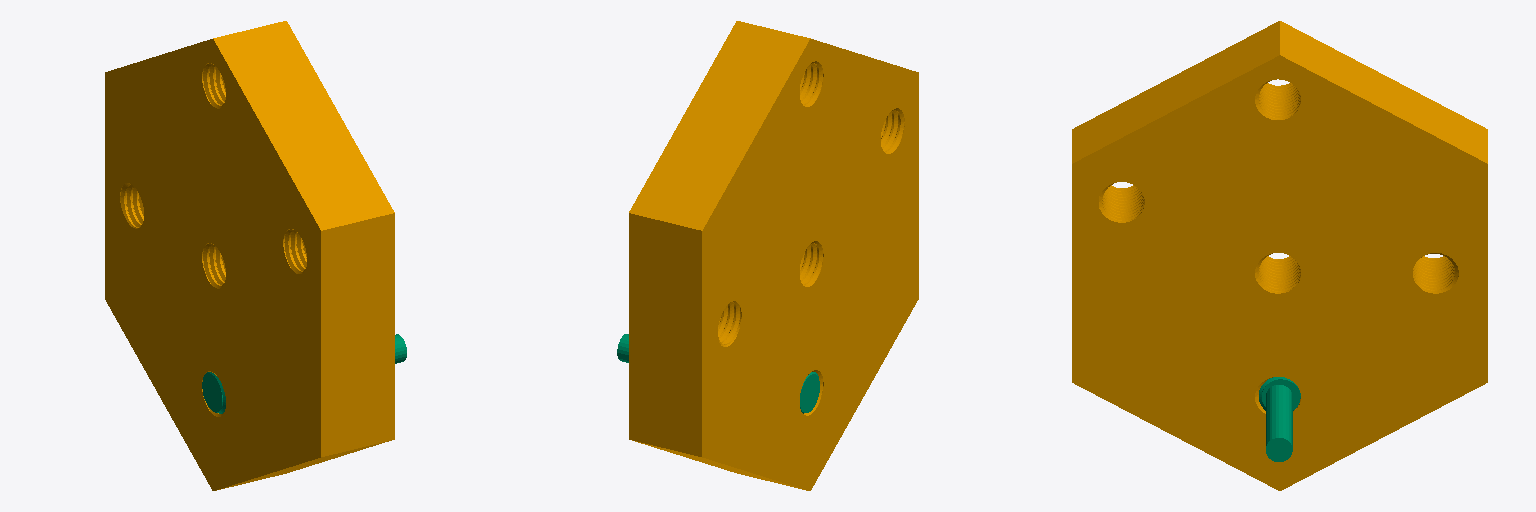
URDF robot description (Peg_insertion_3):
<?xml version="1.0"?>
<!--
  Peg insertion (Hole 3): five-hole plate + one threaded peg in hole 3 on a
  continuous revolute and a prismatic joint along the hole axis.
  Turns the plate normal to +X like the other mechanisms.
  PrismaticJoint = 0 seats the peg (its end flush with the plate back).
-->
<robot name="Peg_insertion_3">
  <link name="World">
    <inertial><origin xyz="0.0075 0 0" rpy="0 0 0" /><mass value="0.1008" /><inertia ixx="0.000114125" ixy="0" ixz="0" iyy="6.7105e-05" iyz="0" izz="5.08014e-05" /></inertial>
    <visual>
      <origin xyz="0 0 0" rpy="0 1.5707963 0" />
      <geometry><mesh filename="meshes/Base_principal_Corpo1.obj" scale="1 1 1" /></geometry>
    </visual>
    <collision>
      <origin xyz="0.0075 0 0" rpy="0 0 0" />
      <geometry><box size="0.015 0.076 0.076" /></geometry>
    </collision>
  </link>
  <link name="rot_pivot">
    <inertial><origin xyz="0 0 0" rpy="0 0 0" /><mass value="0.005" /><inertia ixx="1e-06" ixy="0" ixz="0" iyy="1e-06" iyz="0" izz="1e-06" /></inertial>
  </link>
  <link name="peg">
    <!-- CAD mass is ~2 g; 20 g keeps the grasp contacts stable. -->
    <inertial><origin xyz="0 0 0.019" rpy="0 0 0" /><mass value="0.02" /><inertia ixx="1e-06" ixy="0" ixz="0" iyy="1e-06" iyz="0" izz="1e-06" /></inertial>
    <visual>
      <origin xyz="0 0 0" rpy="0 0 0" />
      <geometry><mesh filename="meshes/Al__a_Corpo1.obj" scale="1 1 1" /></geometry>
    </visual>
    <collision>
      <origin xyz="0 0 0" rpy="0 0 0" />
      <geometry><mesh filename="meshes/Al__a_Corpo1.obj" scale="1 1 1" /></geometry>
    </collision>
  </link>
  <!-- Child frames have +Z along the hole, which is World +X. -->
  <joint name="RevoluteJoint" type="continuous">
    <origin xyz="0 -0.00015 -0.02495" rpy="0 1.5707963 0" />
    <parent link="World" />
    <child link="rot_pivot" />
    <axis xyz="0 0 1" />
  </joint>
  <joint name="PrismaticJoint" type="prismatic">
    <origin xyz="0 0 0" rpy="0 0 0" />
    <parent link="rot_pivot" />
    <child link="peg" />
    <axis xyz="0 0 1" />
    <limit lower="0.0" upper="0.020" effort="100.0" velocity="1.0" />
  </joint>
</robot>

--- Facts derived from the render (not from the file) ---
The picture shows the robot from 3 angles, left to right: view 1: azimuth 30°, elevation 25°; view 2: azimuth 150°, elevation 25°; view 3: azimuth 270°, elevation 25°; orthographic projection.
Model Peg_insertion_3 with 3 links and 2 joints (1 continuous, 1 prismatic), rooted at World, posed all joints at 0.
Visible links, largest first — view 1: World, peg; view 2: World, peg; view 3: World, peg.
Link boxes in pixels (x1,y1,x2,y2): World: (105, 21, 394, 490); peg: (202, 334, 406, 413); World: (629, 21, 918, 490); peg: (617, 334, 819, 413); World: (1072, 21, 1487, 490); peg: (1259, 377, 1300, 461).
Size in the robot's own frame: 0.038 by 0.0763 by 0.0881 metres.
Meshes: 2 distinct files referenced, 2 mesh visuals loaded (2 OBJ).
